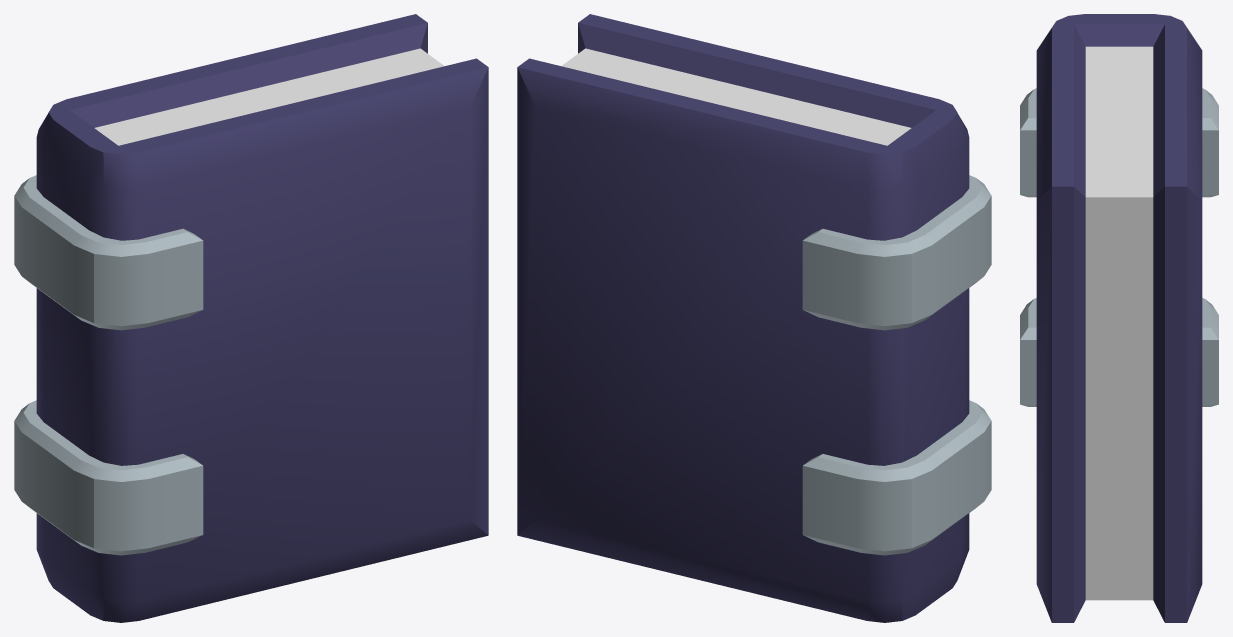
File: bookB.dae
3 views of the same model, side by side, from view 1: azimuth 30°, elevation 25°; view 2: azimuth 150°, elevation 25°; view 3: azimuth 270°, elevation 25° (orthographic). The views are drawn at different scales.
Parts seen in each view (by area): view 1: bookB; view 2: bookB; view 3: bookB.
Boxes of the visible parts, x1=… form: bookB: x1=14, y1=14, x2=488, y2=622; bookB: x1=517, y1=14, x2=991, y2=622; bookB: x1=1020, y1=14, x2=1218, y2=622.
Size of the model in its own units: 0.3758 by 0.172 by 0.4161.
